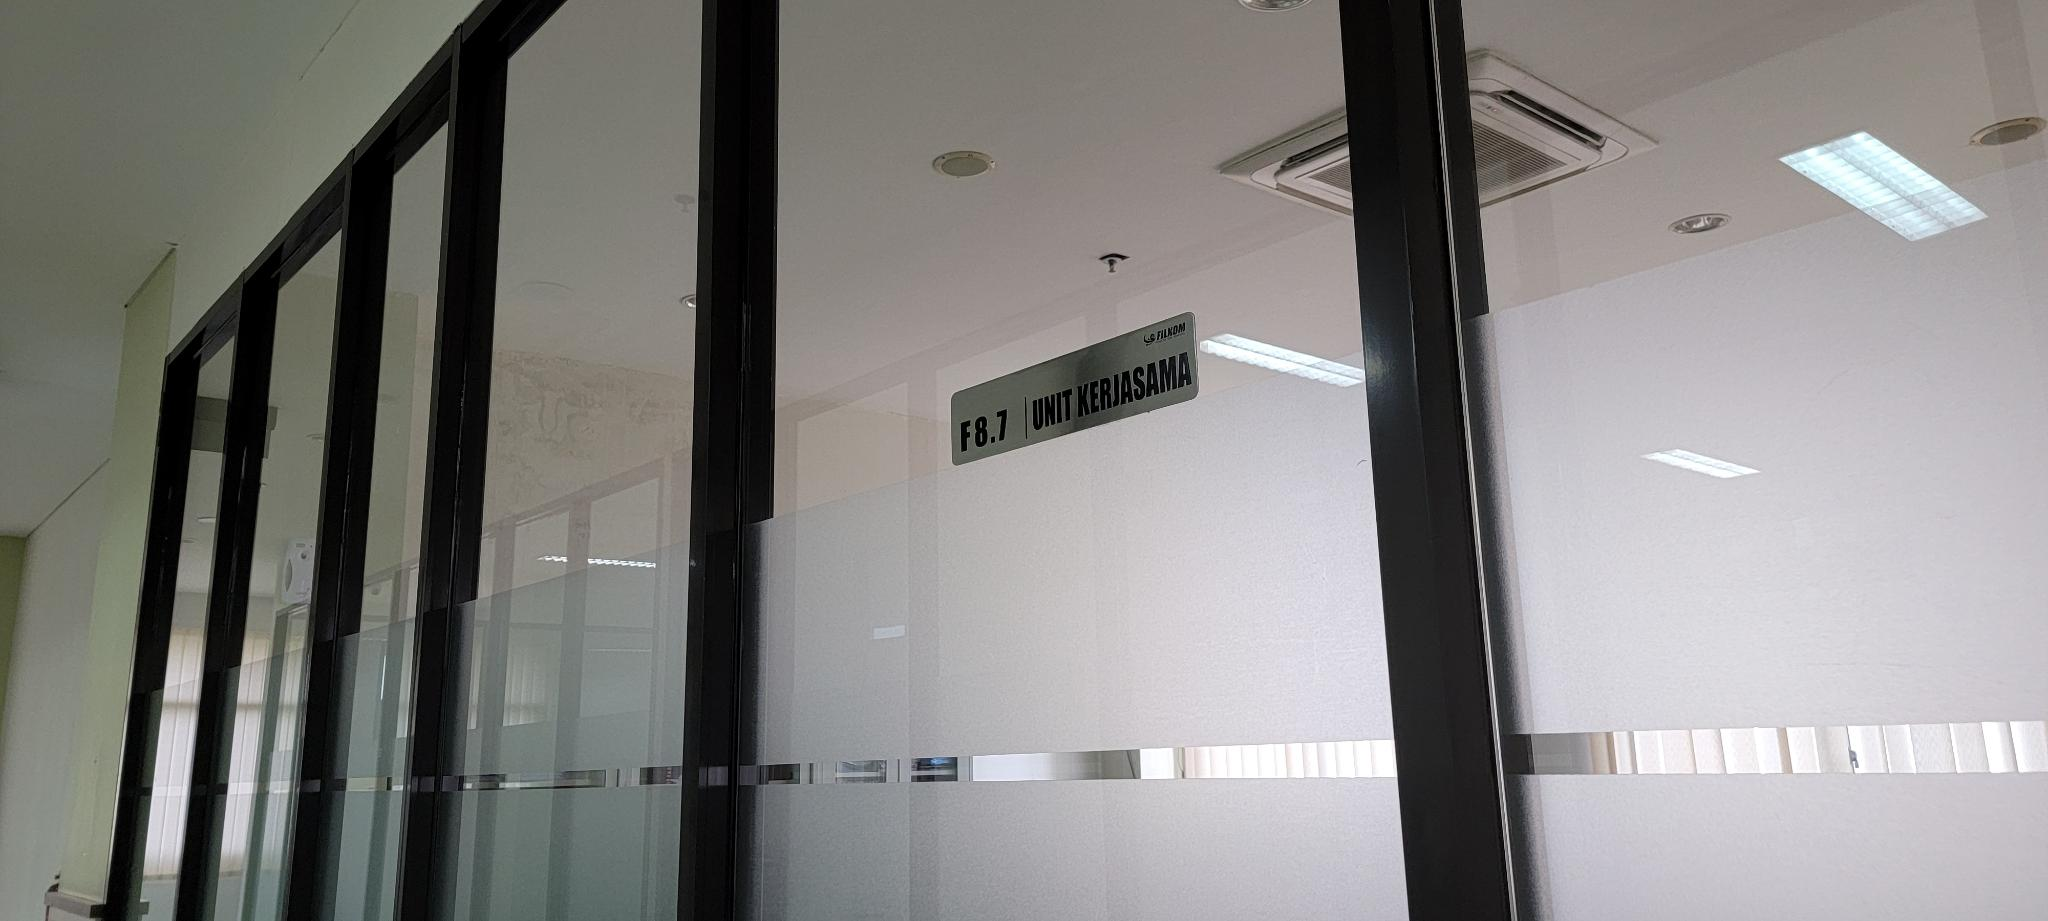plate: (950, 308, 1200, 466)
